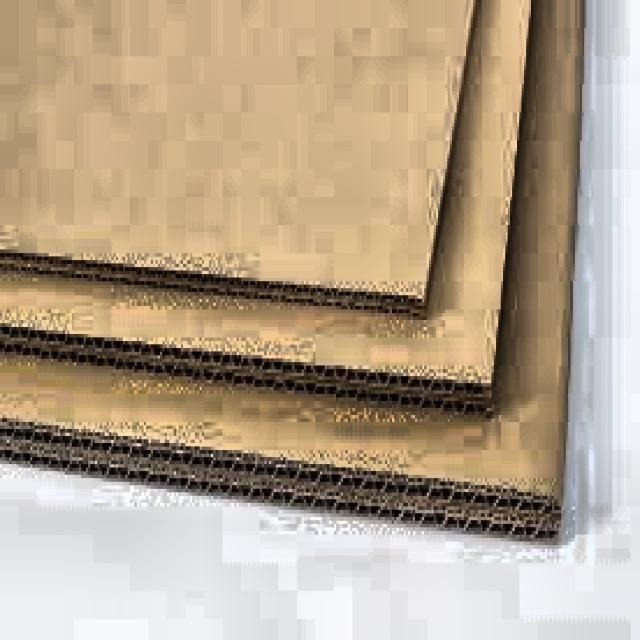cardboard: (0, 0, 587, 542)
